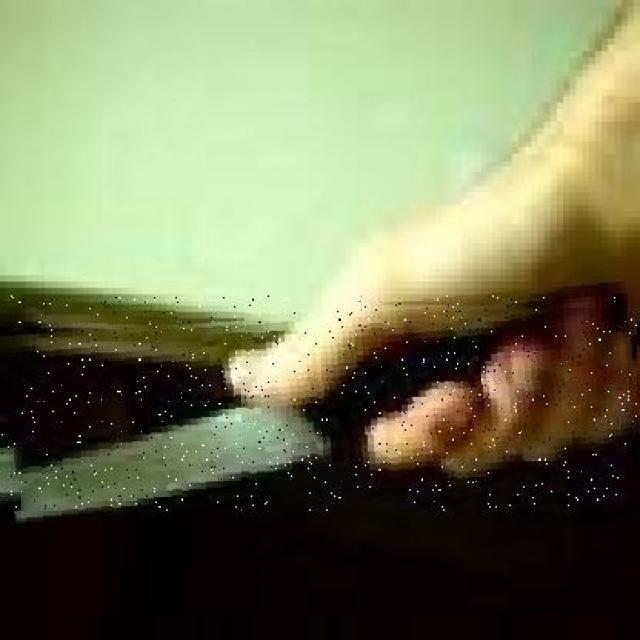knife: (1, 295, 637, 510)
